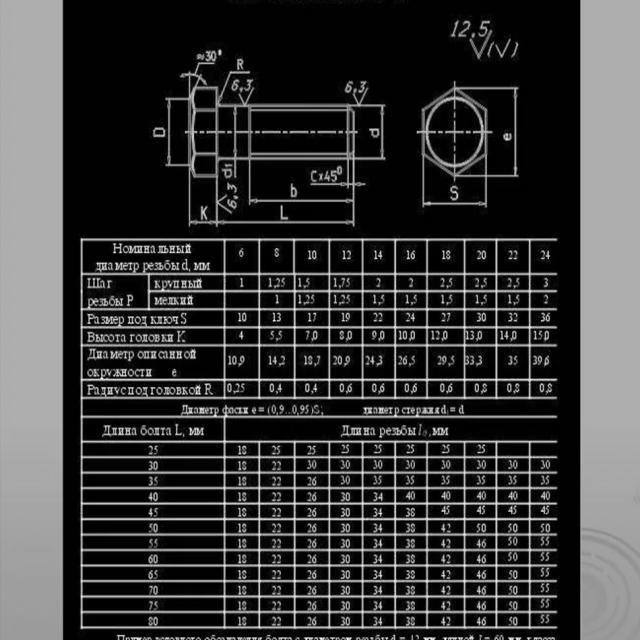marking_line: (215, 180, 355, 232), (249, 160, 357, 208), (489, 85, 520, 180), (422, 178, 488, 209), (355, 101, 387, 162), (164, 95, 188, 168), (185, 178, 220, 227), (307, 162, 367, 188), (219, 69, 249, 102), (181, 71, 208, 86), (194, 59, 217, 73), (233, 107, 239, 156), (201, 183, 207, 224)
numeric: (458, 21, 472, 38), (479, 19, 490, 37), (451, 18, 459, 40), (344, 80, 354, 96), (227, 182, 239, 194), (227, 198, 238, 210), (330, 169, 338, 183), (245, 78, 253, 91), (232, 79, 239, 93), (359, 81, 366, 93), (204, 50, 211, 62), (225, 162, 234, 170), (211, 49, 216, 62), (325, 171, 330, 182)
special_symbol: (468, 30, 492, 58), (495, 37, 512, 59), (238, 88, 255, 104), (511, 43, 520, 59), (487, 42, 494, 57), (337, 165, 342, 176)
